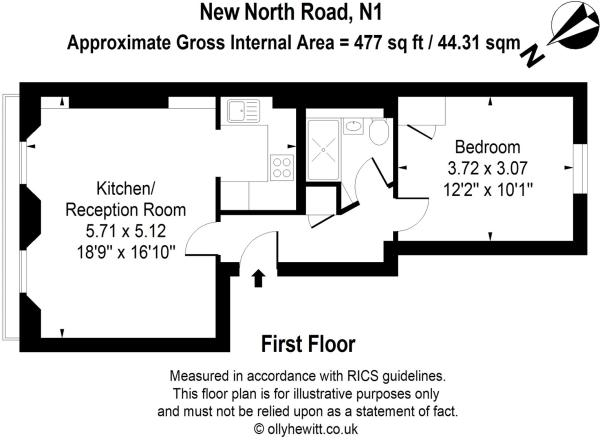GrossArea: (65, 31, 521, 55)
